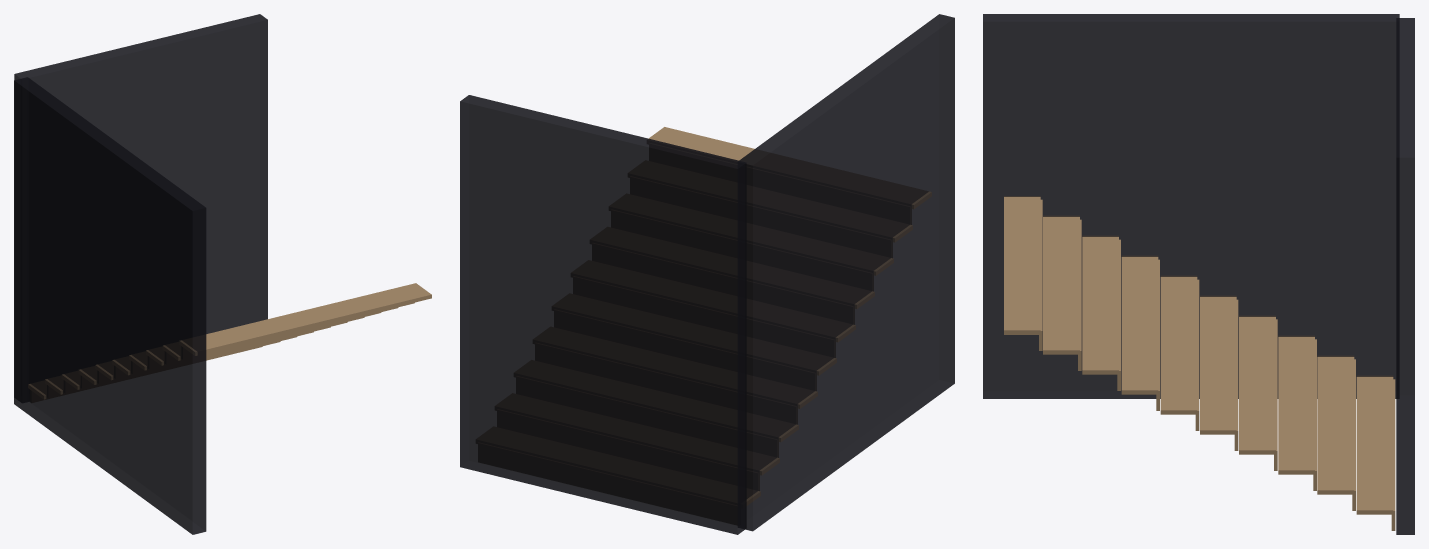
The model's file is ANM_P2_Stairwell_Hidden_A.obj.
3 renders of one model, left to right at view 1: azimuth 30°, elevation 25°; view 2: azimuth 150°, elevation 25°; view 3: azimuth 270°, elevation 25°, orthographic. The views are drawn at different scales.
Parts seen in each view (by area): view 1: wall_left, wall_back, tread_9; view 2: wall_back, wall_left, tread_9; view 3: wall_left, wall_back, tread_1, tread_0, tread_5, tread_6, tread_2, tread_3, tread_4, tread_7, tread_8, tread_9.
Boxes of the visible parts, bbox=[...] form: wall_left: bbox=[14, 77, 206, 534]; wall_back: bbox=[14, 14, 267, 402]; tread_9: bbox=[179, 283, 431, 355]; wall_back: bbox=[460, 95, 746, 534]; wall_left: bbox=[738, 14, 954, 531]; tread_9: bbox=[648, 127, 931, 208]; wall_left: bbox=[983, 14, 1399, 398]; wall_back: bbox=[1396, 18, 1414, 534]; tread_1: bbox=[1317, 356, 1354, 494]; tread_0: bbox=[1356, 376, 1393, 514]; tread_5: bbox=[1160, 276, 1197, 414]; tread_6: bbox=[1121, 256, 1158, 394]; tread_2: bbox=[1278, 336, 1314, 474]; tread_3: bbox=[1239, 316, 1275, 454]; tread_4: bbox=[1200, 296, 1236, 434]; tread_7: bbox=[1082, 236, 1118, 374]; tread_8: bbox=[1043, 216, 1079, 354]; tread_9: bbox=[1004, 196, 1040, 334].
Size of the model in its own units: 2.78 by 3.4 by 3.53.
